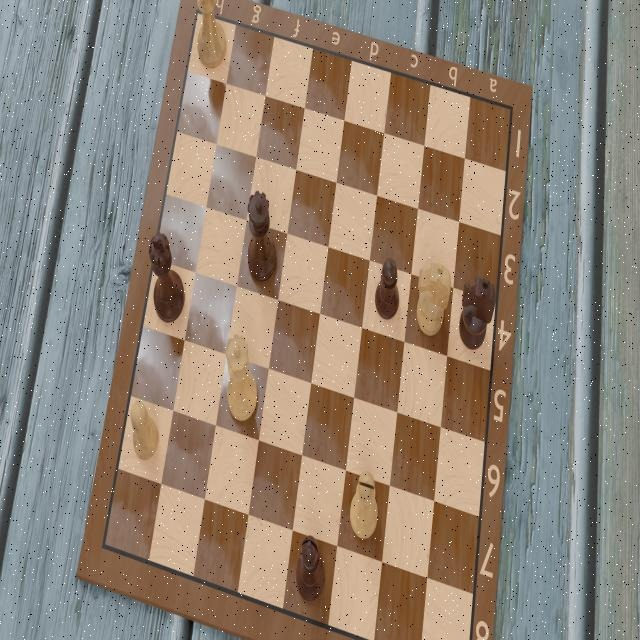black-bishop: (294, 533, 330, 607)
black-king: (148, 231, 188, 329)
black-knight: (458, 270, 498, 355)
black-pawn: (373, 256, 403, 325)
black-queen: (243, 189, 278, 282)
white-bishop: (347, 468, 380, 544)
white-king: (192, 0, 228, 72)
white-knight: (415, 254, 453, 341)
white-pawn: (127, 394, 161, 462)
white-queen: (224, 334, 260, 426)
